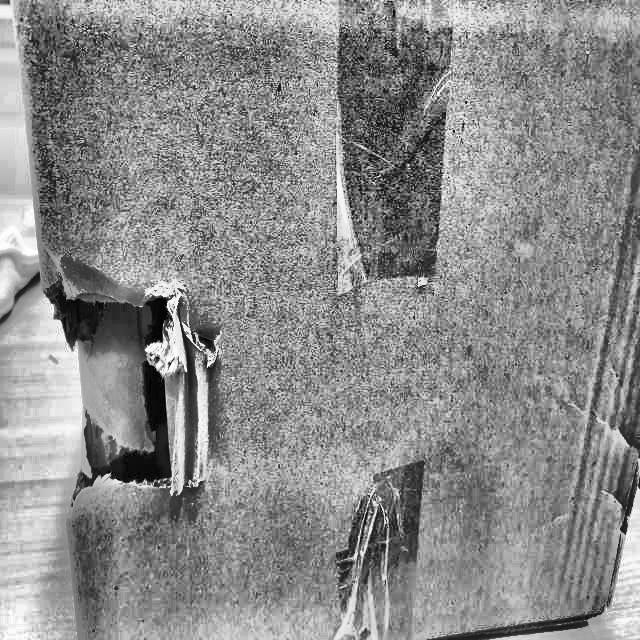box: (1, 0, 639, 639)
hole: (51, 271, 191, 507)
